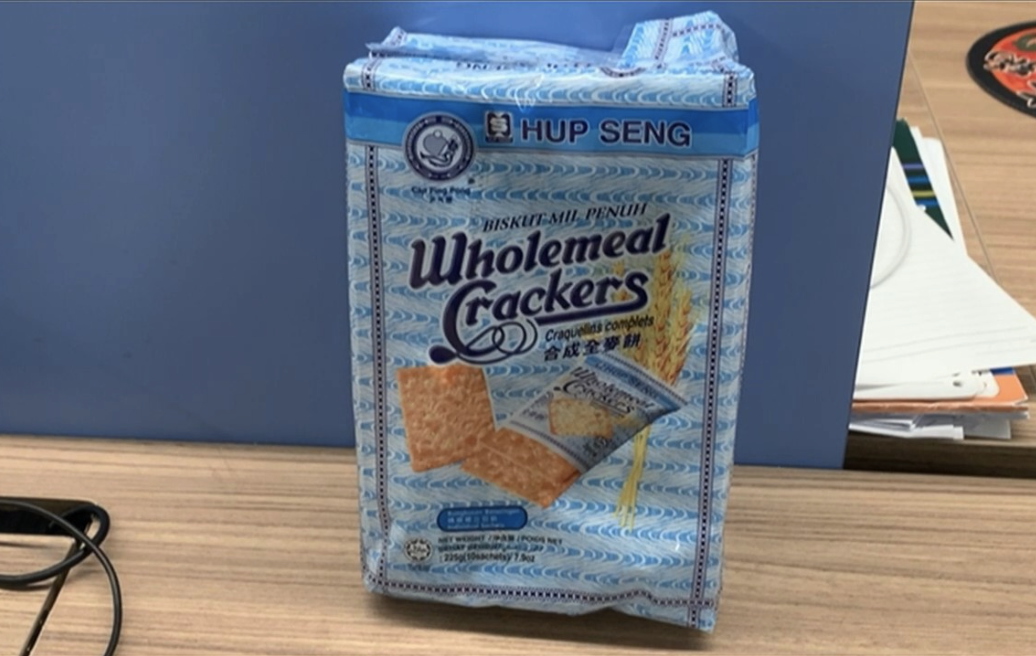crackers_150g: (394, 104, 700, 582)
